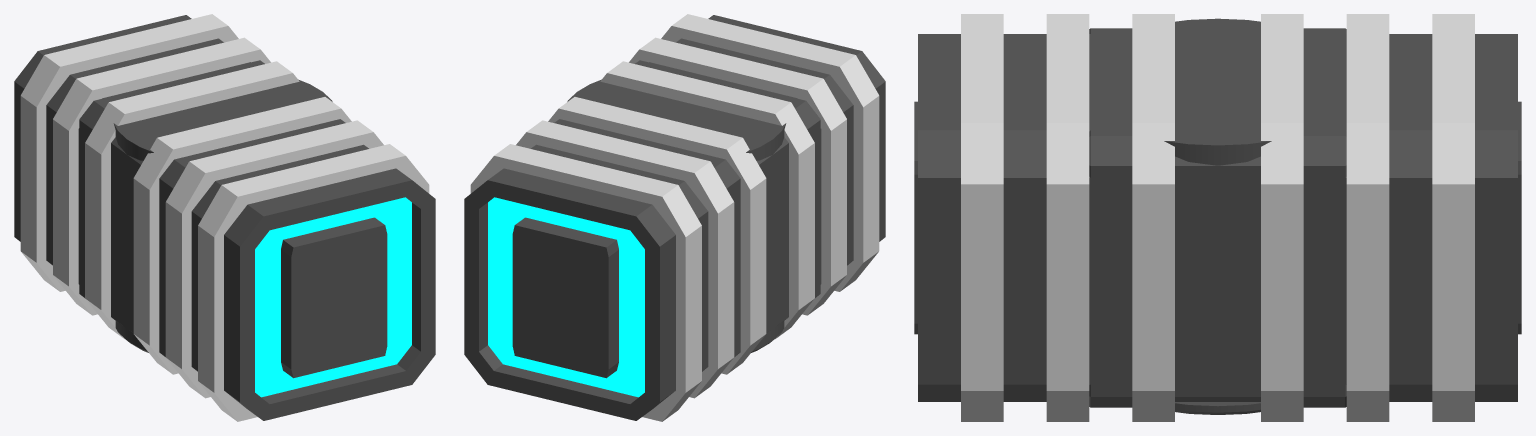
The model's file is Decoracion.fbx.
3 views of the same model, side by side, from view 1: azimuth 30°, elevation 25°; view 2: azimuth 150°, elevation 25°; view 3: azimuth 270°, elevation 25° (orthographic). The views are drawn at different scales.
Parts seen in each view (by area): view 1: CrateLarge, ContainerCilinder, CrateCube; view 2: CrateLarge, ContainerCilinder, CrateCube; view 3: CrateLarge, CrateCube, ContainerCilinder.
Boxes of the visible parts, x1=… form: CrateLarge: x1=14, y1=14, x2=435, y2=421; ContainerCilinder: x1=113, y1=68, x2=336, y2=352; CrateCube: x1=79, y1=60, x2=345, y2=356; CrateLarge: x1=464, y1=14, x2=885, y2=421; ContainerCilinder: x1=563, y1=72, x2=786, y2=352; CrateCube: x1=554, y1=60, x2=820, y2=356; CrateLarge: x1=914, y1=14, x2=1521, y2=421; CrateCube: x1=1089, y1=28, x2=1346, y2=407; ContainerCilinder: x1=1089, y1=18, x2=1346, y2=414.
Size of the model in its own units: 220 by 220 by 405.
